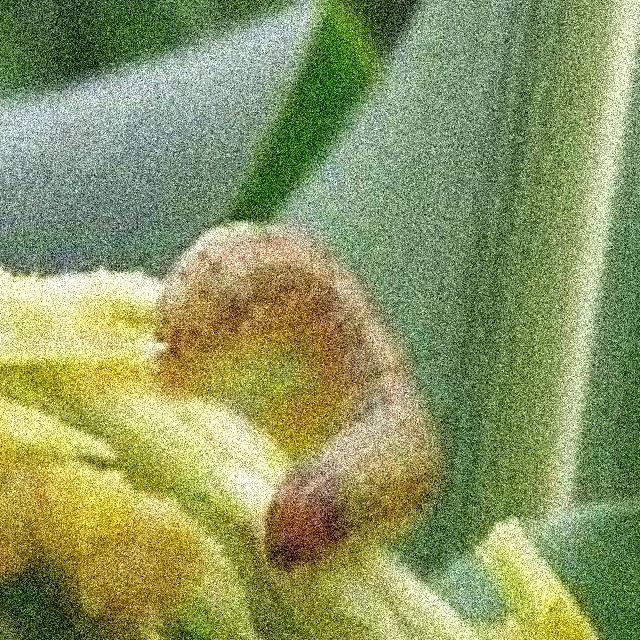Plaga: (149, 218, 451, 588)
